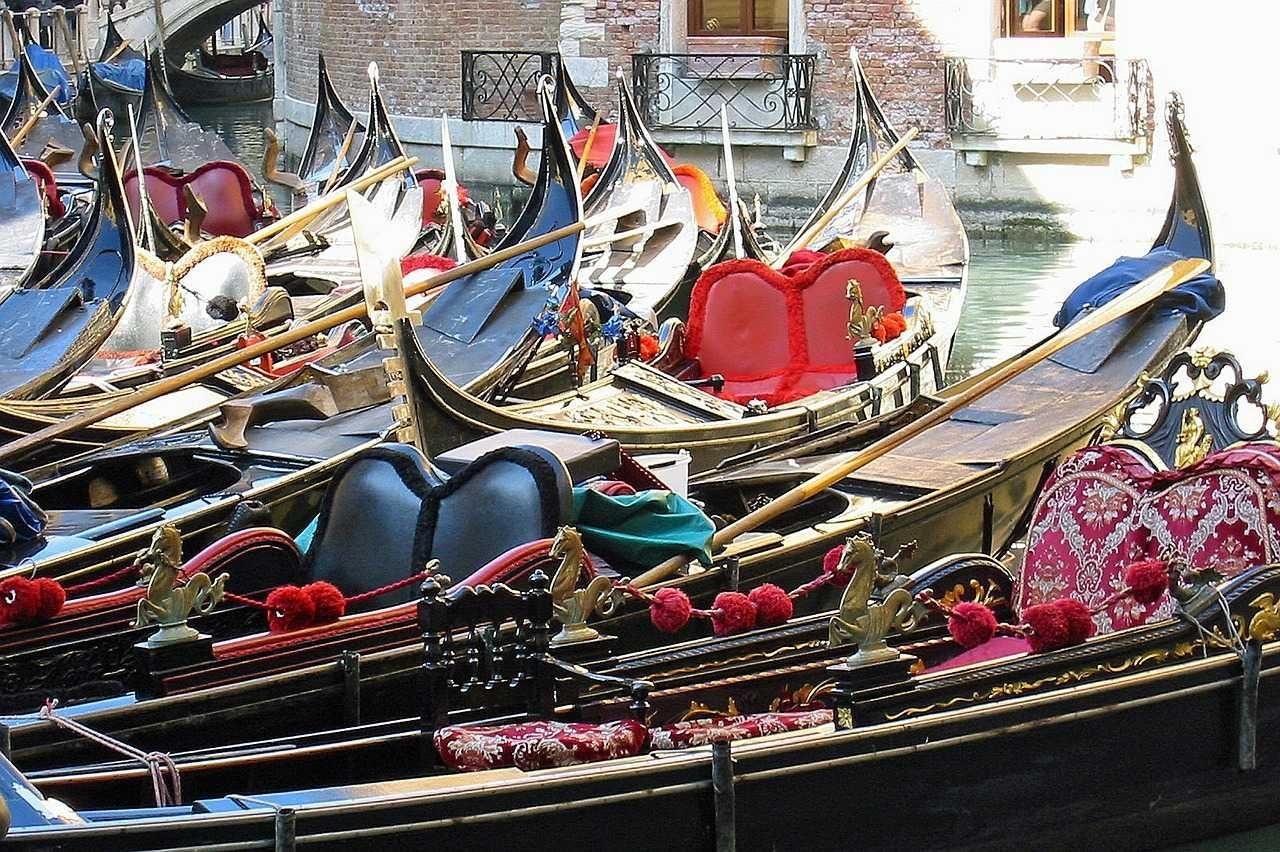kayak: (2, 193, 1266, 825), (400, 44, 968, 482), (2, 68, 653, 442), (479, 66, 816, 393), (1, 46, 138, 399), (533, 70, 701, 335), (1, 105, 82, 334), (117, 1, 276, 105)
